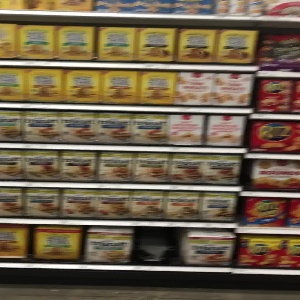void: (131, 226, 182, 268)
